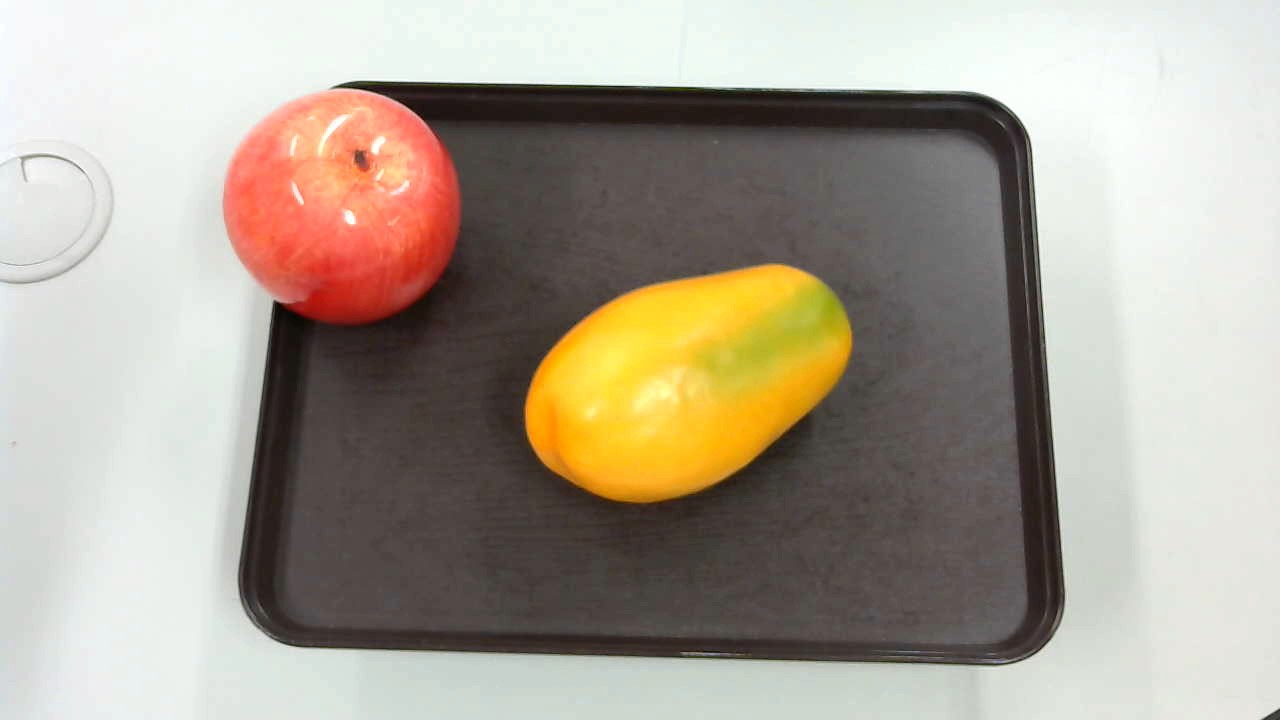papya: (523, 263, 854, 502)
red apple: (229, 86, 461, 317)
